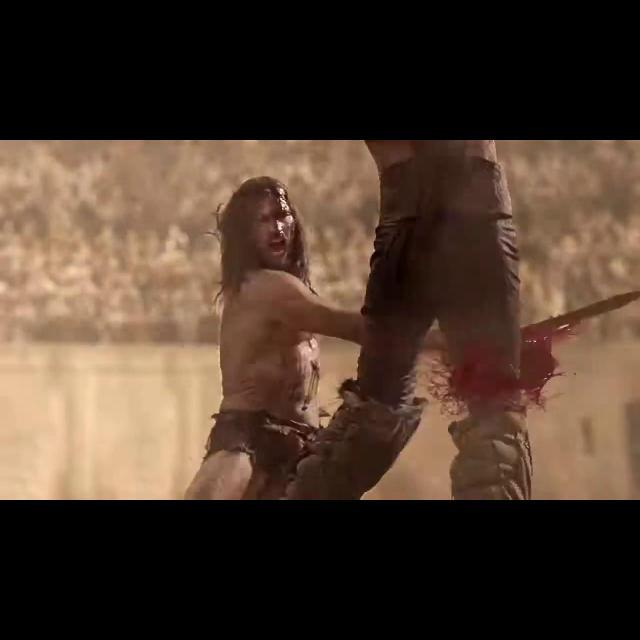blood: (429, 290, 640, 415), (253, 194, 295, 270)
